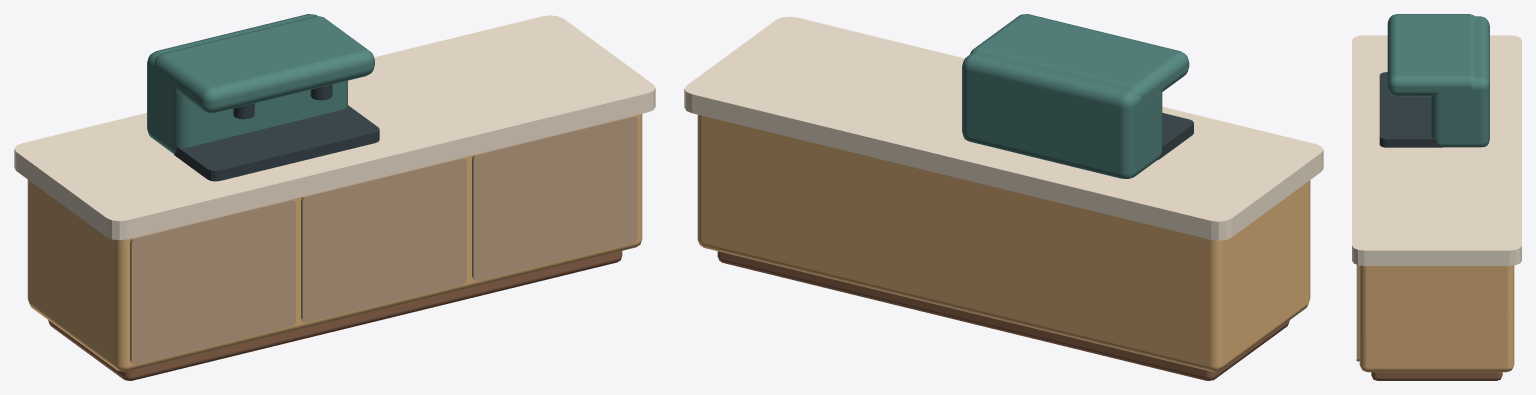
Rendered from kit_coffee_bar_v1.glb.
The picture shows the model from 3 angles, left to right: view 1: azimuth 30°, elevation 25°; view 2: azimuth 150°, elevation 25°; view 3: azimuth 270°, elevation 25°; orthographic projection. The views are drawn at different scales.
Visible parts, largest first — view 1: body; view 2: body; view 3: body.
Part boxes in pixels (x1,y1,x2,y2): body: [14, 14, 655, 380]; body: [684, 14, 1323, 380]; body: [1352, 14, 1521, 380].
Bounding box in the file's own units: 2.4 × 1.1 × 0.8.
